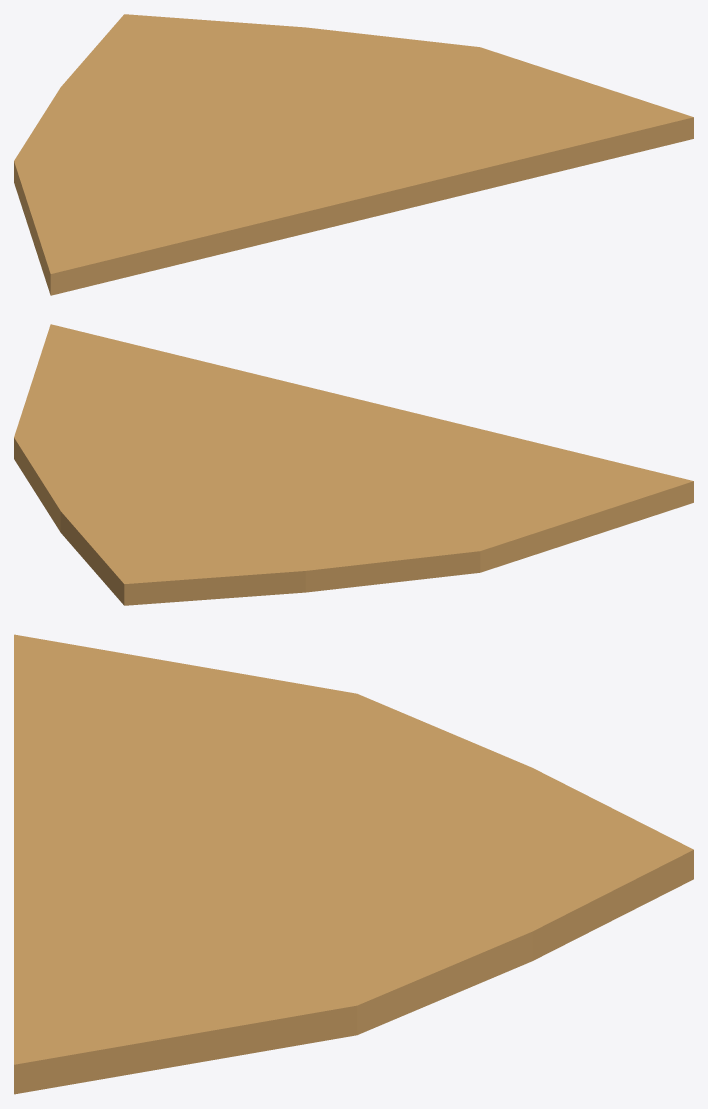
File: FLOOR_BOW.glb
3 views of the same model, one above another, from view 1: azimuth 30°, elevation 25°; view 2: azimuth 150°, elevation 25°; view 3: azimuth 270°, elevation 25° (orthographic). The views are drawn at different scales.
Bounding box in the file's own units: 5.6 × 0.18 × 3.74.
